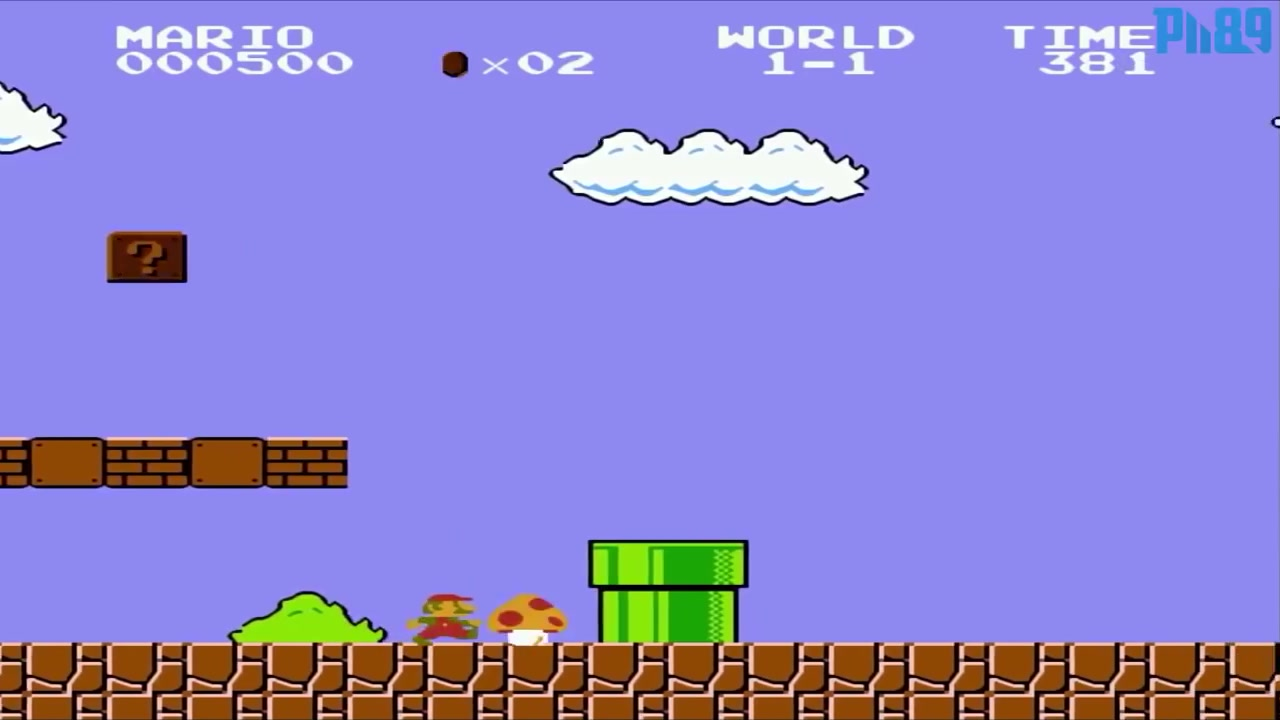mario: (397, 582, 485, 643)
